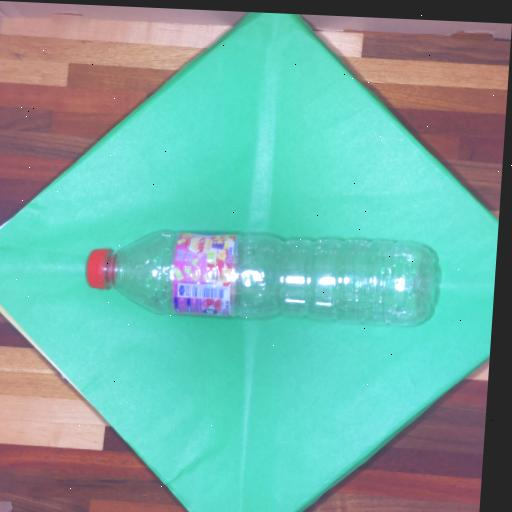bottle: (87, 231, 438, 324)
